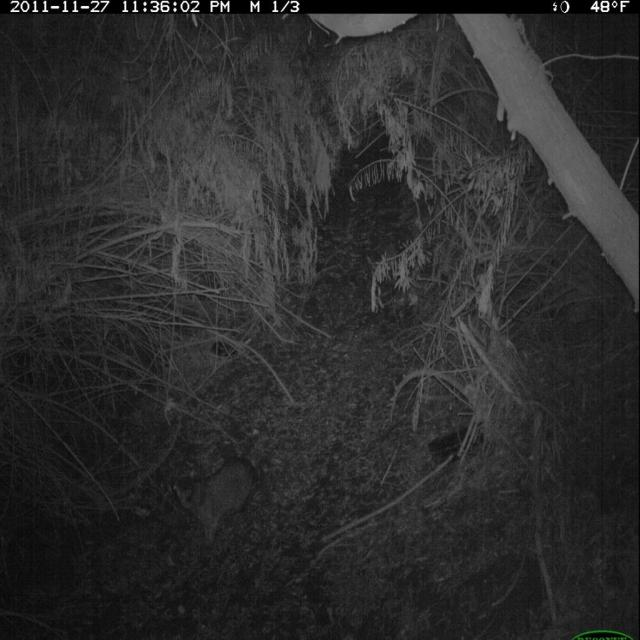raccoon: (161, 452, 266, 557)
